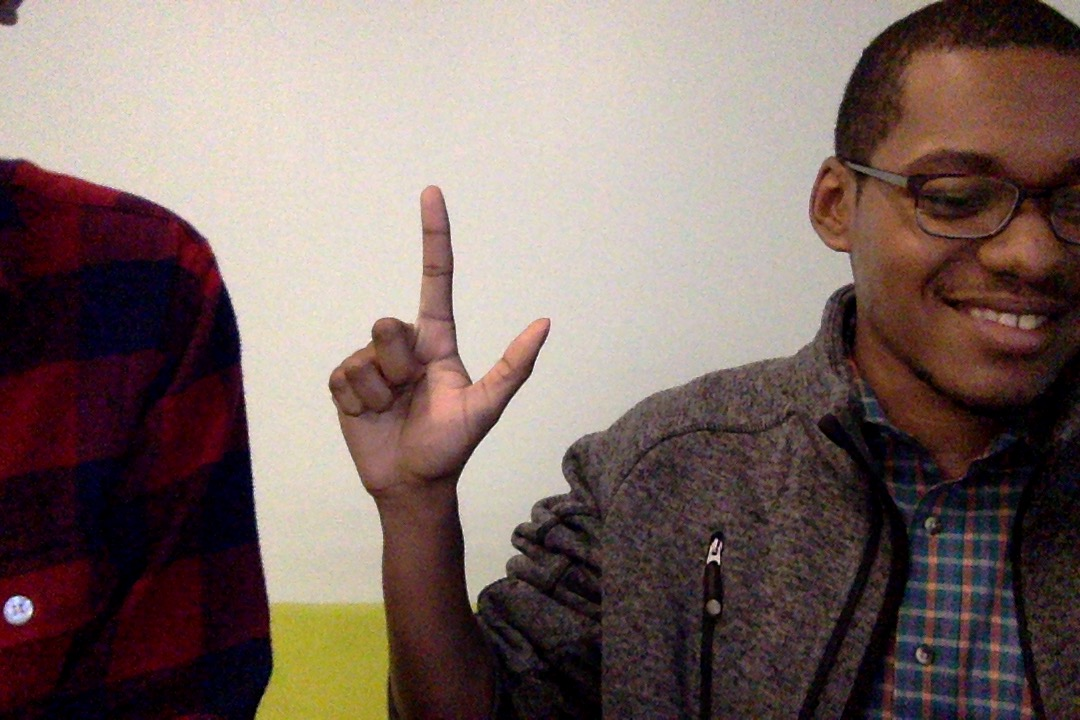l: (303, 175, 568, 548)
